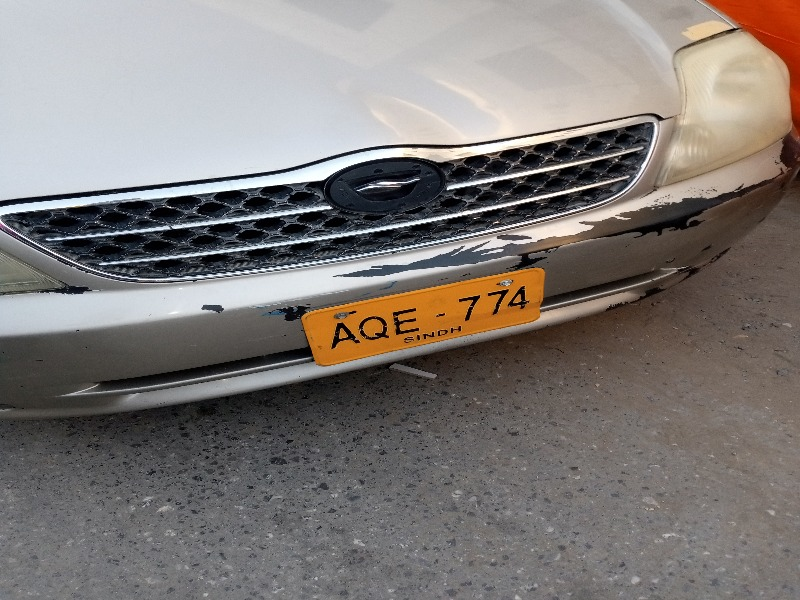License Plate: (301, 267, 545, 372)
